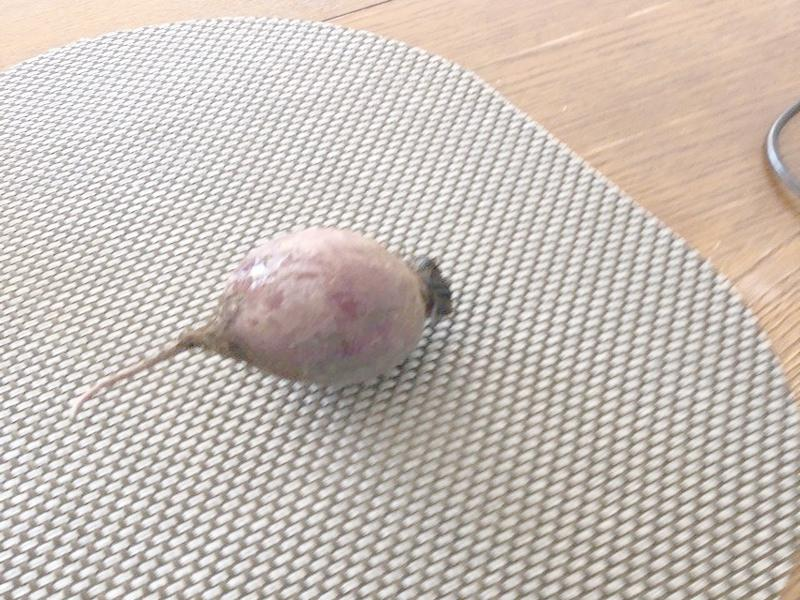Beet: (69, 228, 454, 419)
